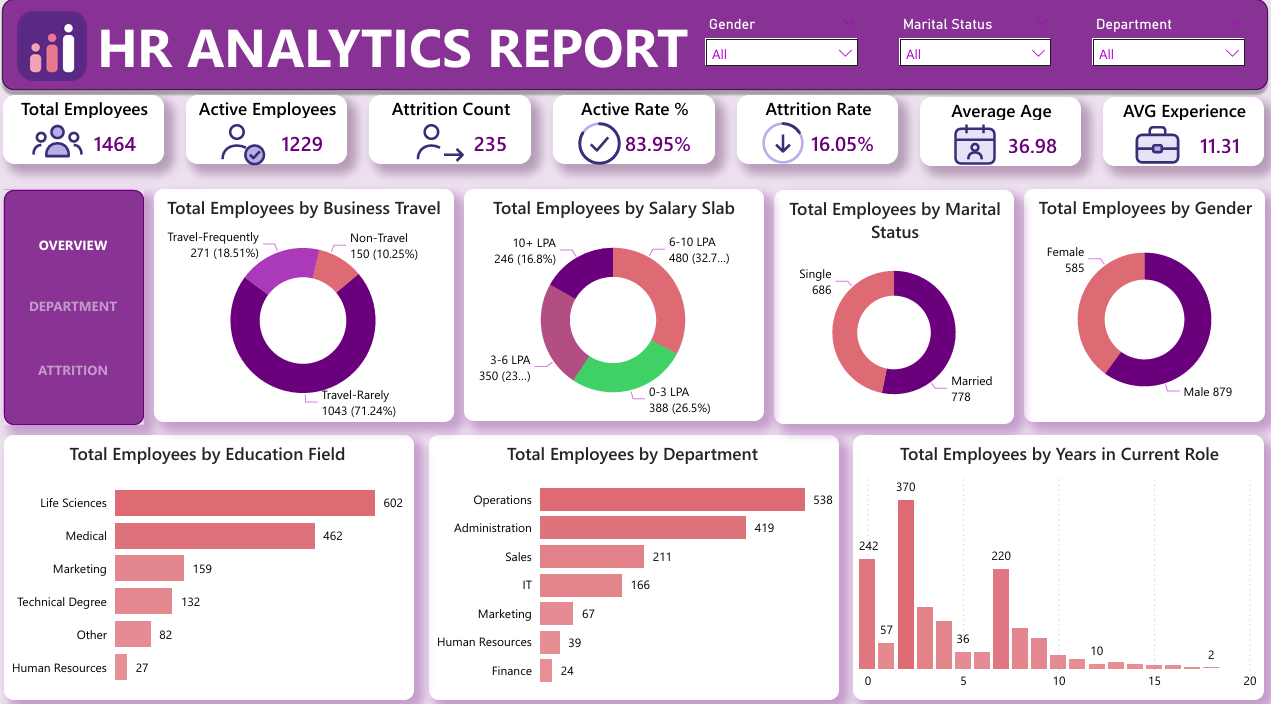

This screenshot's page, from the dashboard's own definition file:
{"tool":"powerbi","page":{"name":"Overview","canvas":[1280,720],"ordinal":0},"visuals":[{"type":"shape","box":[0,0,1280,104.8],"z":0},{"type":"cardVisual","title":"Total Employees","fields":{"Data":["Measures (2).Total Employee"]},"box":[7.8,102.9,161,69],"z":0,"group":"g1"},{"type":"cardVisual","title":"Active Rate %","fields":{"Data":["Measures (2).Active Rate"]},"box":[558.2,102.9,161.6,69],"z":1000,"group":"g1"},{"type":"group","id":"g1","title":"Group 1","box":[7.8,102.9,1259.9,70.5],"z":2000},{"type":"cardVisual","title":"Attrition Count","fields":{"Data":["Measures (2).Inactive Employee"]},"box":[374.2,102.9,161.6,69],"z":2000,"group":"g1"},{"type":"cardVisual","title":"Active Employees","fields":{"Data":["Measures (2).Active Employee"]},"box":[191.3,102.9,160.4,69],"z":3000,"group":"g1"},{"type":"image","box":[35.3,120.7,54.7,55.8],"z":3000},{"type":"cardVisual","title":"Attrition Rate","fields":{"Data":["Measures (2).Attrition Rate"]},"box":[742.2,102.9,160.4,69],"z":4000,"group":"g1"},{"type":"image","box":[219.8,123,54.7,55.8],"z":4000},{"type":"cardVisual","title":"Average Age","fields":{"Data":["Measures (2).Average Age"]},"box":[925.1,105.2,160.4,69],"z":5000,"group":"g1"},{"type":"image","box":[952.6,123.8,54.3,55.9],"z":5000},{"type":"cardVisual","title":"AVG Experience","fields":{"Data":["Measures (2).Average Experience"]},"box":[1108,105.2,160.4,69],"z":6000,"group":"g1"},{"type":"image","box":[416.8,123,54.7,55.8],"z":6000},{"type":"image","box":[577.4,123,54.7,55.8],"z":7000},{"type":"image","box":[1135.4,123,54.7,55.8],"z":8000},{"type":"donutChart","title":"Total Employees by Gender","fields":{"Category":["HR_Analytics-4.Gender"],"Y":["Measures (2).Total Employees"]},"box":[1029.5,197,240.3,233.5],"z":9000},{"type":"barChart","fields":{"Category":["HR_Analytics-4.Department"],"Y":["Measures (2).Total Employees"]},"box":[434.4,443,410,265],"z":10000},{"type":"donutChart","title":"Total Employees by Marital Status","fields":{"Y":["Measures (2).Total Employees"],"Category":["HR_Analytics-4.MaritalStatus"]},"box":[779.3,198.1,240,233.5],"z":11000},{"type":"shape","box":[8.8,197.5,140,235],"z":12000},{"type":"shape","box":[19.4,220.9,117.3,62.6],"z":13000},{"type":"clusteredBarChart","title":"Total Employees by Education Field","fields":{"Category":["HR_Analytics-4.EducationField"],"Y":["Measures (2).Total Employees"]},"box":[9.1,443,410,265.3],"z":14000},{"type":"shape","box":[19.4,282.4,117.3,62.6],"z":15000},{"type":"shape","box":[19.4,346.2,117.3,62.6],"z":16000},{"type":"donutChart","title":"Total Employees by Business Travel","fields":{"Category":["HR_Analytics-4.BusinessTravel"],"Y":["Measures (2).Total Employees"]},"box":[158.9,197,300,233.5],"z":17000},{"type":"donutChart","title":"Total Employees by Salary Slab","fields":{"Y":["Measures (2).Total Employees"],"Category":["HR_Analytics-4.SalarySlab"]},"box":[469.1,197,300,232.3],"z":21000},{"type":"image","box":[760.7,123,54.7,55.8],"z":22000},{"type":"clusteredColumnChart","title":"Total Employees by Years in Current Role","fields":{"Y":["Measures (2).Total Employees"],"Category":["HR_Analytics-4.YearsinCurrentRole"]},"box":[857.5,443,411.1,265.3],"z":23000},{"type":"shape","box":[78.6,0,637.7,104.8],"z":23001},{"type":"slicer","fields":{"Values":["HR_Analytics-4.Gender"]},"box":[701.5,19.4,172,69.5],"z":23002},{"type":"image","box":[0,5.7,113.9,96.8],"z":23003},{"type":"slicer","fields":{"Values":["HR_Analytics-4.Gender"]},"box":[894.5,19.4,172,69.5],"z":23004},{"type":"slicer","fields":{"Values":["HR_Analytics-4.Gender"]},"box":[1087.5,19.4,172,69.5],"z":23005}]}

Visuals, with their boxes in screenshot pixels (x1, y1, x2, y2), scaled from the page's 1280x720 canvas onto the 1271x704 screenshot:
shape: (left=0, top=0, right=1270, bottom=102)
"Total Employees" cardVisual: (left=8, top=101, right=168, bottom=168)
"Active Rate %" cardVisual: (left=554, top=101, right=715, bottom=168)
"Group 1" group: (left=8, top=101, right=1259, bottom=170)
"Attrition Count" cardVisual: (left=372, top=101, right=532, bottom=168)
"Active Employees" cardVisual: (left=190, top=101, right=349, bottom=168)
image: (left=35, top=118, right=89, bottom=173)
"Attrition Rate" cardVisual: (left=737, top=101, right=896, bottom=168)
image: (left=218, top=120, right=273, bottom=175)
"Average Age" cardVisual: (left=919, top=103, right=1078, bottom=170)
image: (left=946, top=121, right=1000, bottom=176)
"AVG Experience" cardVisual: (left=1100, top=103, right=1259, bottom=170)
image: (left=414, top=120, right=468, bottom=175)
image: (left=573, top=120, right=628, bottom=175)
image: (left=1127, top=120, right=1182, bottom=175)
"Total Employees by Gender" donutChart: (left=1022, top=193, right=1261, bottom=421)
barChart - HR_Analytics-4.Department x Measures (2).Total Employees: (left=431, top=433, right=838, bottom=692)
"Total Employees by Marital Status" donutChart: (left=774, top=194, right=1012, bottom=422)
shape: (left=9, top=193, right=148, bottom=423)
shape: (left=19, top=216, right=136, bottom=277)
"Total Employees by Education Field" clusteredBarChart: (left=9, top=433, right=416, bottom=693)
shape: (left=19, top=276, right=136, bottom=337)
shape: (left=19, top=339, right=136, bottom=400)
"Total Employees by Business Travel" donutChart: (left=158, top=193, right=456, bottom=421)
"Total Employees by Salary Slab" donutChart: (left=466, top=193, right=764, bottom=420)
image: (left=755, top=120, right=810, bottom=175)
"Total Employees by Years in Current Role" clusteredColumnChart: (left=851, top=433, right=1260, bottom=693)
shape: (left=78, top=0, right=711, bottom=102)
slicer - HR_Analytics-4.Gender: (left=697, top=19, right=867, bottom=87)
image: (left=0, top=6, right=113, bottom=100)
slicer - HR_Analytics-4.Gender: (left=888, top=19, right=1059, bottom=87)
slicer - HR_Analytics-4.Gender: (left=1080, top=19, right=1251, bottom=87)
